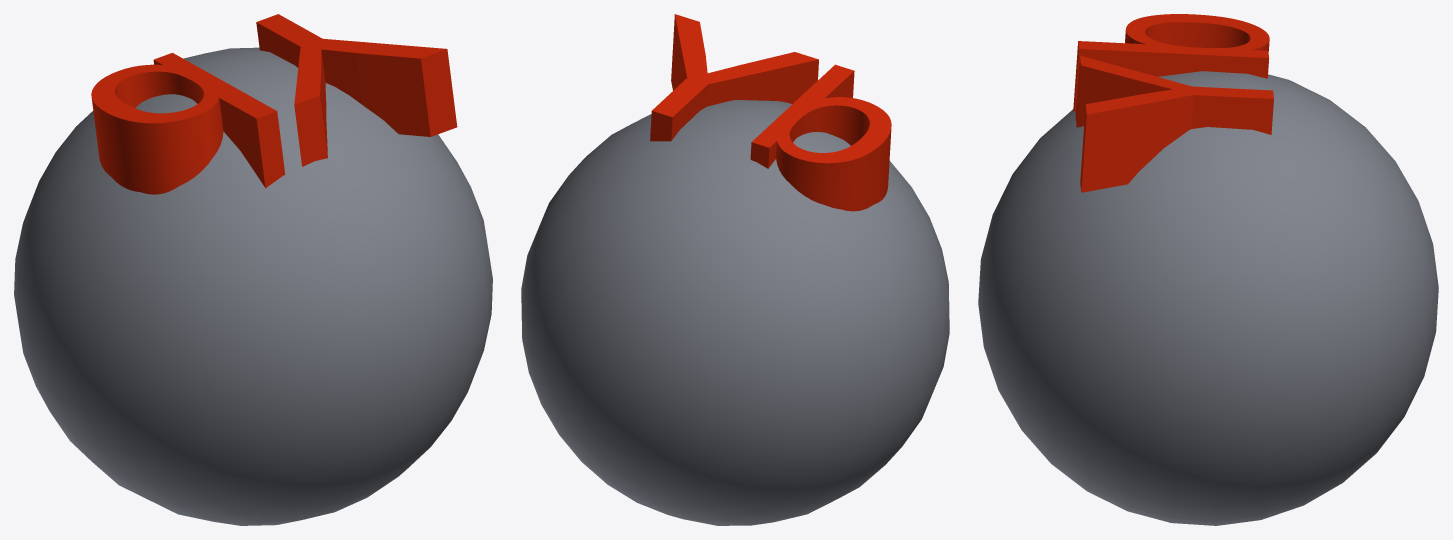
3 views of the same model, side by side, from view 1: azimuth 30°, elevation 25°; view 2: azimuth 150°, elevation 25°; view 3: azimuth 270°, elevation 25° (orthographic). The views are drawn at different scales.
Visible parts, largest first — view 1: Yb; view 2: Yb; view 3: Yb.
Part boxes in pixels (x1,y1,x2,y2): Yb: (14,14,492,525); Yb: (521,14,949,525); Yb: (978,14,1438,525).
Size of the model in its own units: 38.62 by 41.81 by 38.71.
